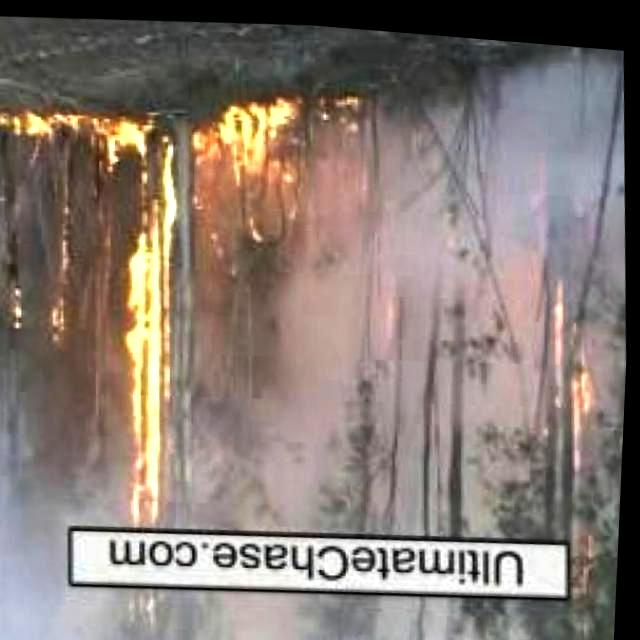fire: (0, 82, 308, 214), (116, 229, 196, 565), (545, 333, 607, 467), (43, 224, 83, 356), (7, 272, 29, 340)
